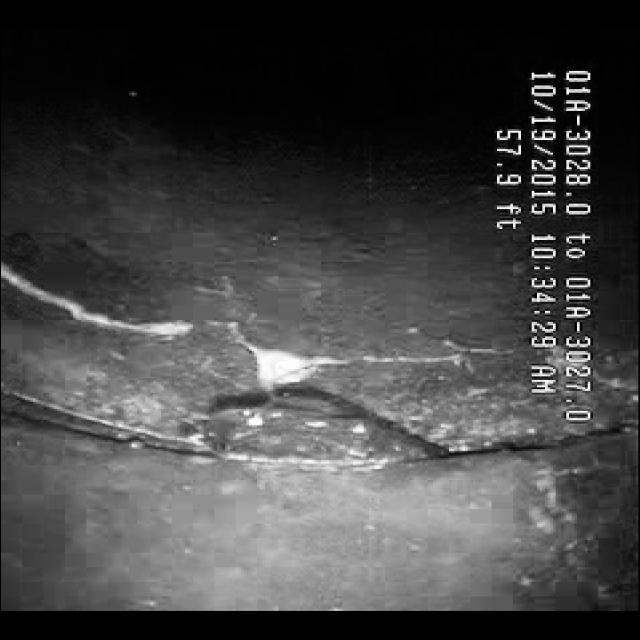Crack: (54, 292, 457, 396)
